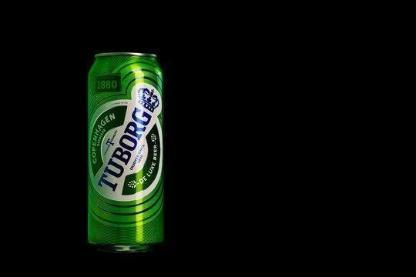Can: (86, 51, 166, 255)
